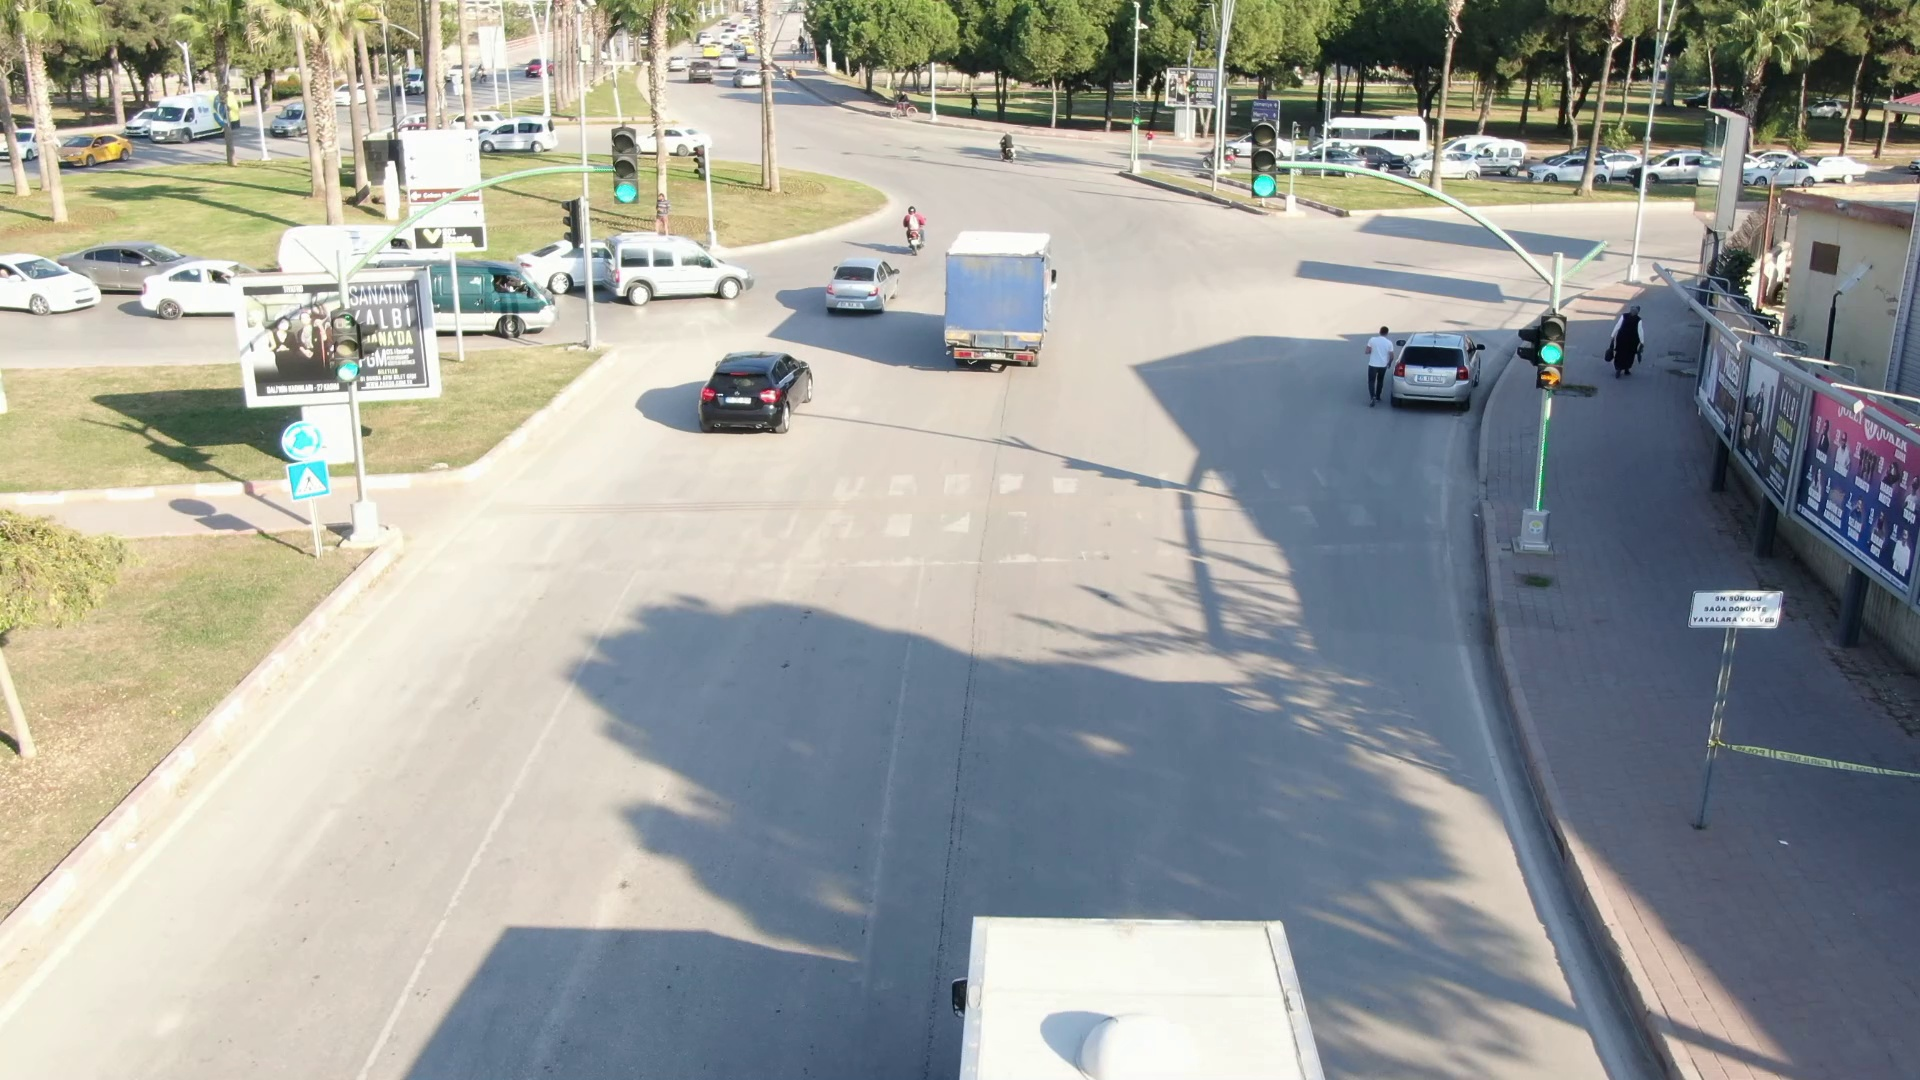car: (601, 226, 762, 312), (695, 339, 827, 439), (1391, 326, 1487, 414), (814, 247, 906, 332), (1, 251, 117, 315), (140, 250, 247, 319), (130, 95, 249, 145), (1519, 147, 1612, 189), (475, 112, 553, 160), (60, 126, 132, 169)
person: (1601, 297, 1650, 382), (1361, 321, 1393, 414)
